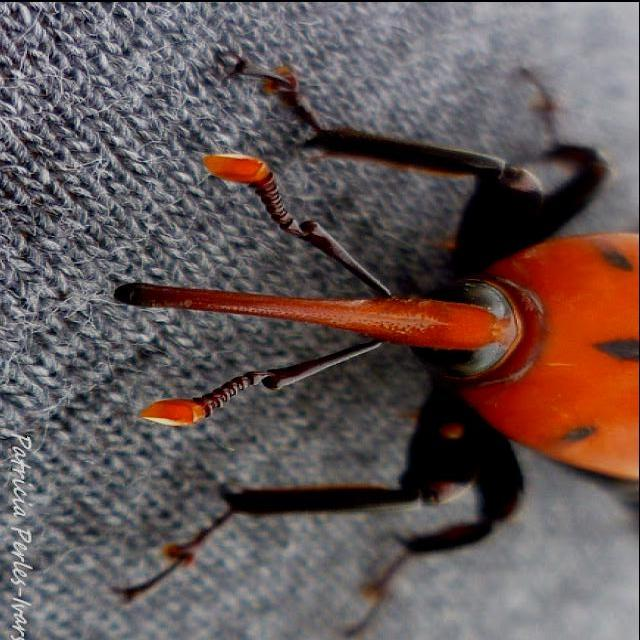Red-palm-weevil: (109, 59, 639, 574)
